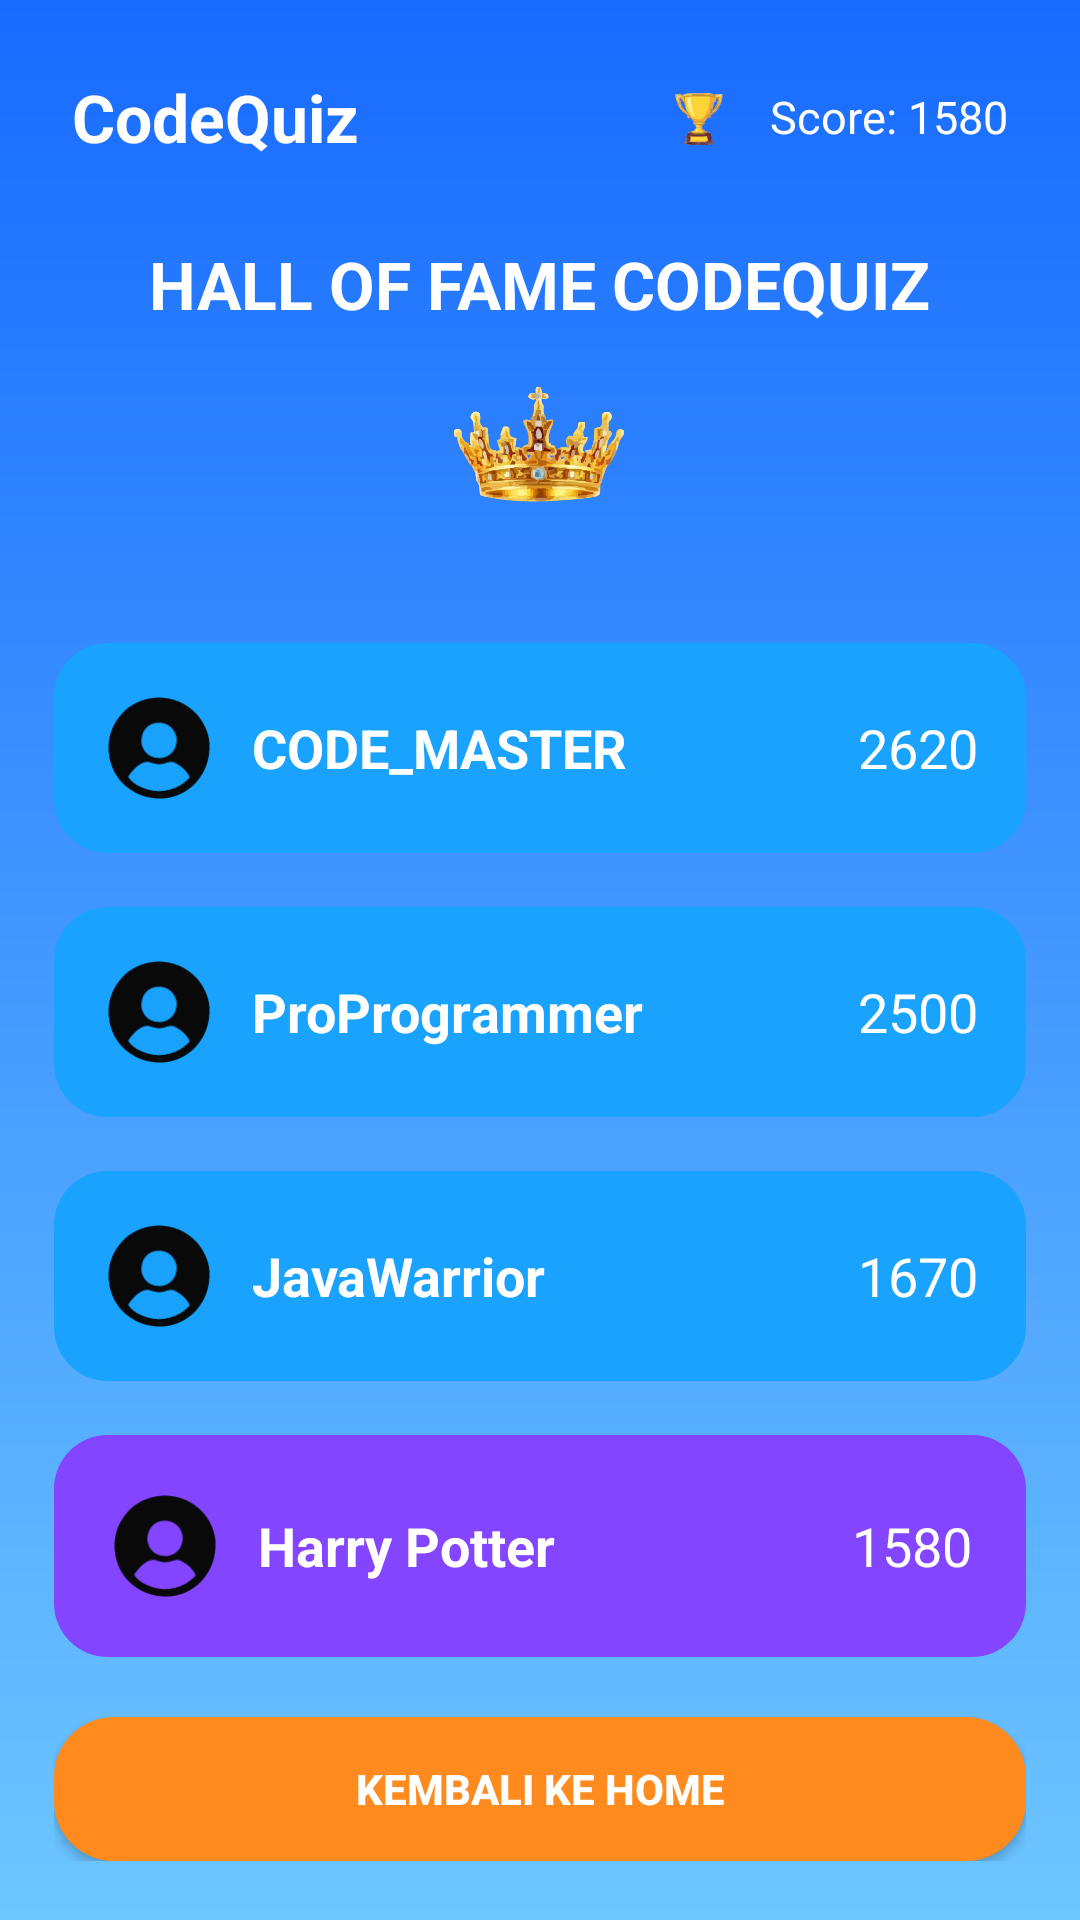

Where icons sit on this 1080×1920 app screen, as (x1, y1, x2, y2):
award: (675, 93, 723, 145)
crown: (454, 386, 624, 502)
profile: (108, 697, 210, 799), (108, 961, 210, 1063), (108, 1225, 210, 1327), (114, 1495, 216, 1597)
